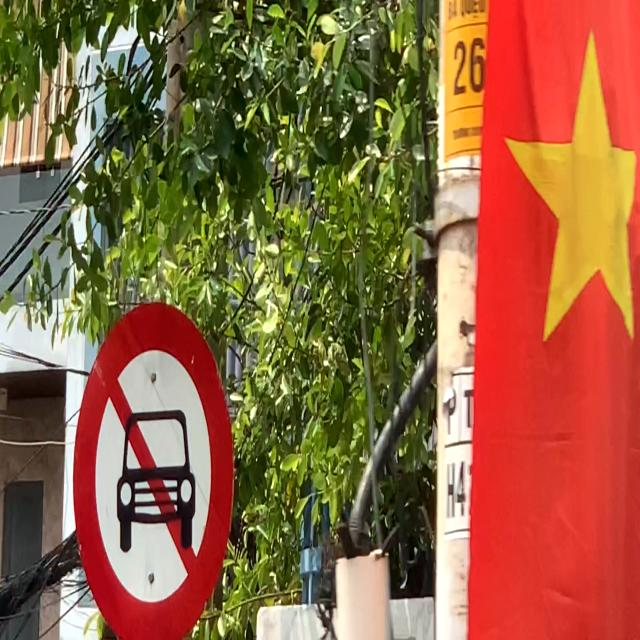P.103a: (72, 300, 230, 640)
